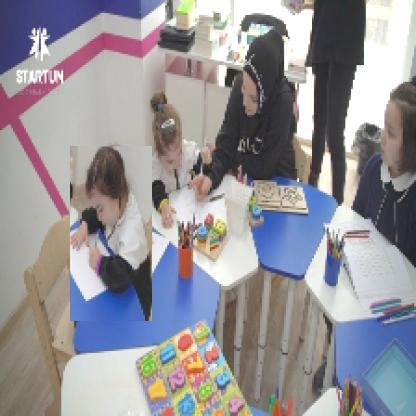child: (71, 147, 154, 323), (150, 91, 204, 229)
